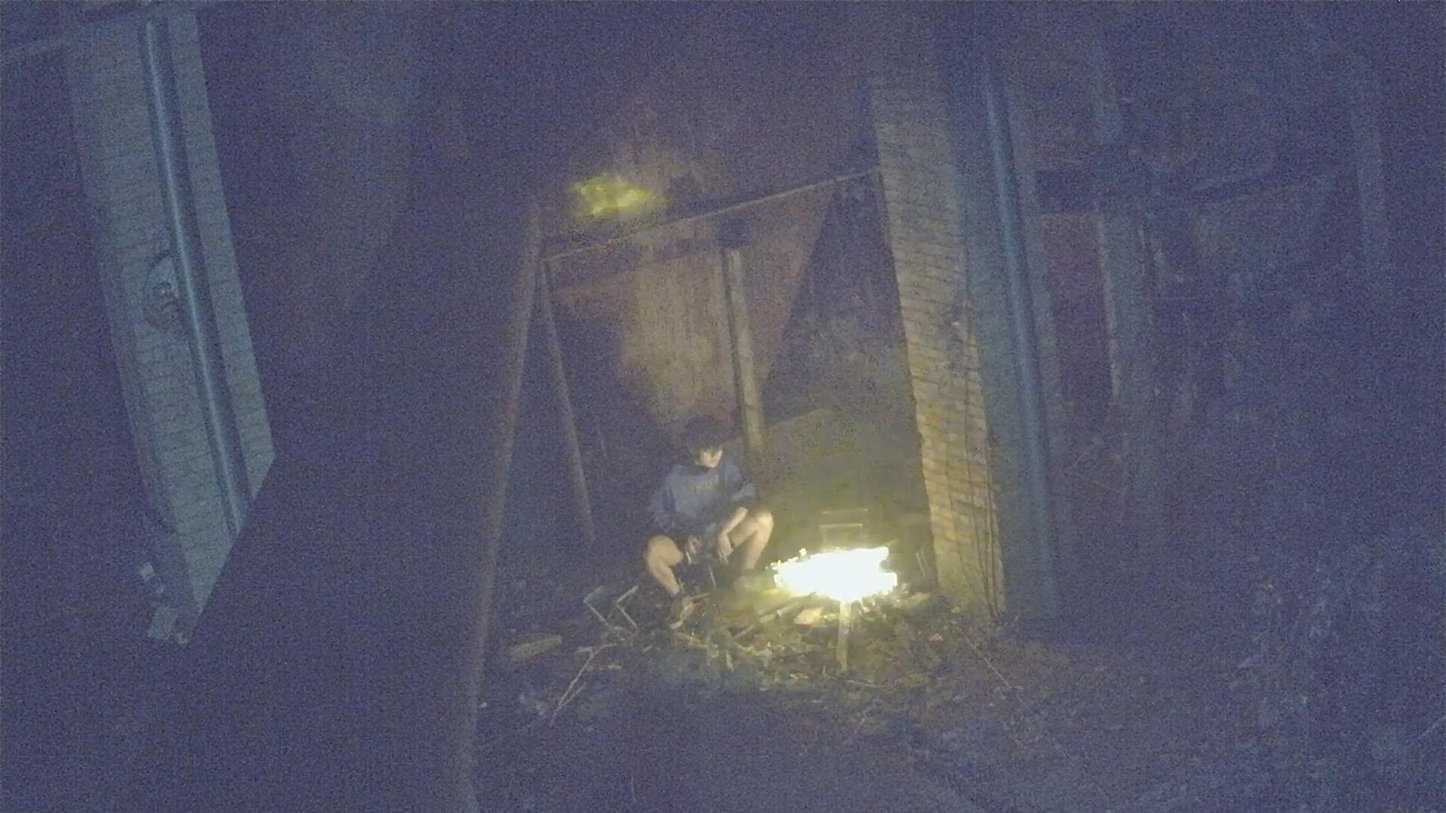fire: (774, 547, 897, 603)
